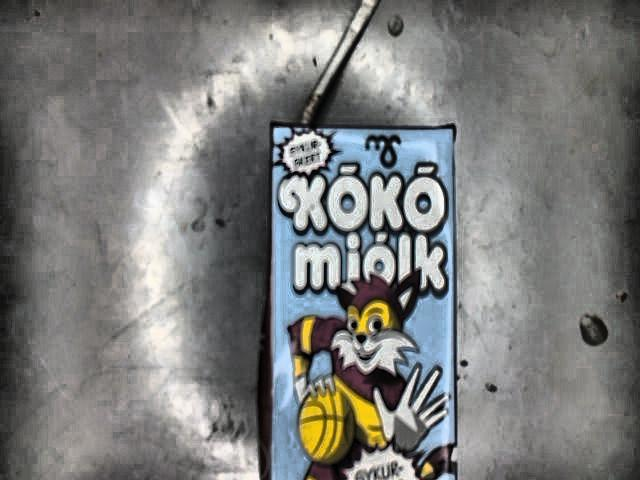Paper: (259, 0, 461, 480)
